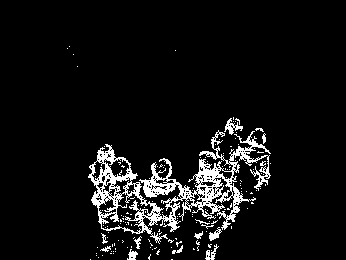person: (185, 146, 232, 260), (110, 152, 147, 260), (147, 153, 184, 258), (89, 141, 117, 260), (241, 123, 270, 215), (213, 109, 238, 191)
